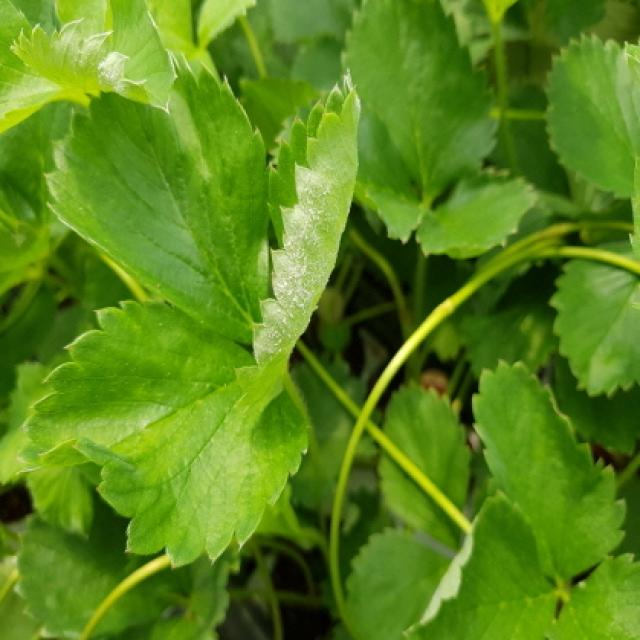Powdery Mildew Leaf: (230, 71, 363, 416), (400, 487, 560, 638), (2, 0, 179, 136)
